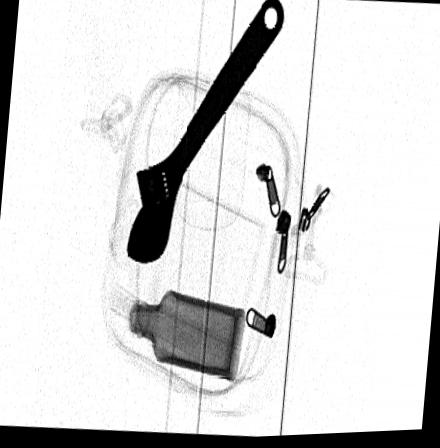Wrench: (123, 0, 287, 266)
